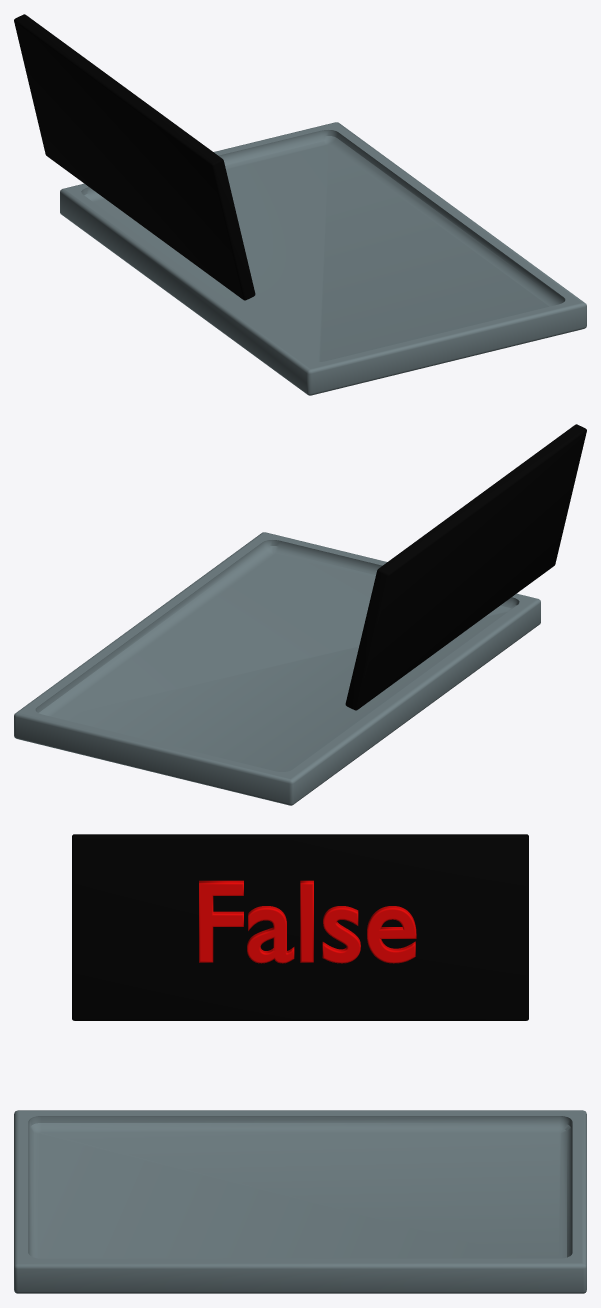
File: False Plate.fbx
3 renders of one model, top to bottom at view 1: azimuth 30°, elevation 25°; view 2: azimuth 150°, elevation 25°; view 3: azimuth 270°, elevation 25°, orthographic. The views are drawn at different scales.
Parts seen in each view (by area): view 1: Cube.003; view 2: Cube.003; view 3: Cube.003, Text.002.
Part boxes in pixels (x1,y1,x2,y2): Cube.003: [14, 14, 586, 395]; Cube.003: [14, 424, 586, 805]; Cube.003: [14, 834, 586, 1293]; Text.002: [199, 880, 416, 963].
Size of the model in its own units: 106 by 67.78 by 131.
